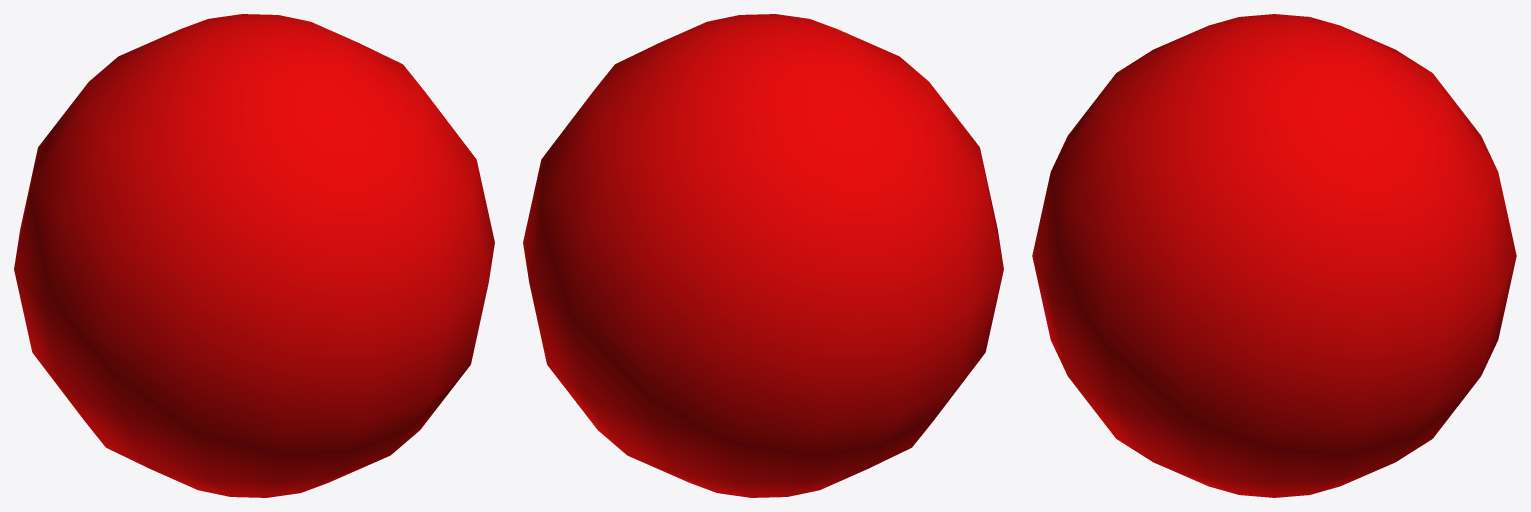
File: maru.fbx
The picture shows the model from 3 angles, left to right: view 1: azimuth 30°, elevation 25°; view 2: azimuth 150°, elevation 25°; view 3: azimuth 270°, elevation 25°; orthographic projection.
Parts seen in each view (by area): view 1: 球; view 2: 球; view 3: 球.
Part boxes in pixels (<box>): 球: <box>14,14,494,497</box>; 球: <box>523,14,1003,497</box>; 球: <box>1032,14,1516,497</box>.
Size of the model in its own units: 20 by 20 by 20.
